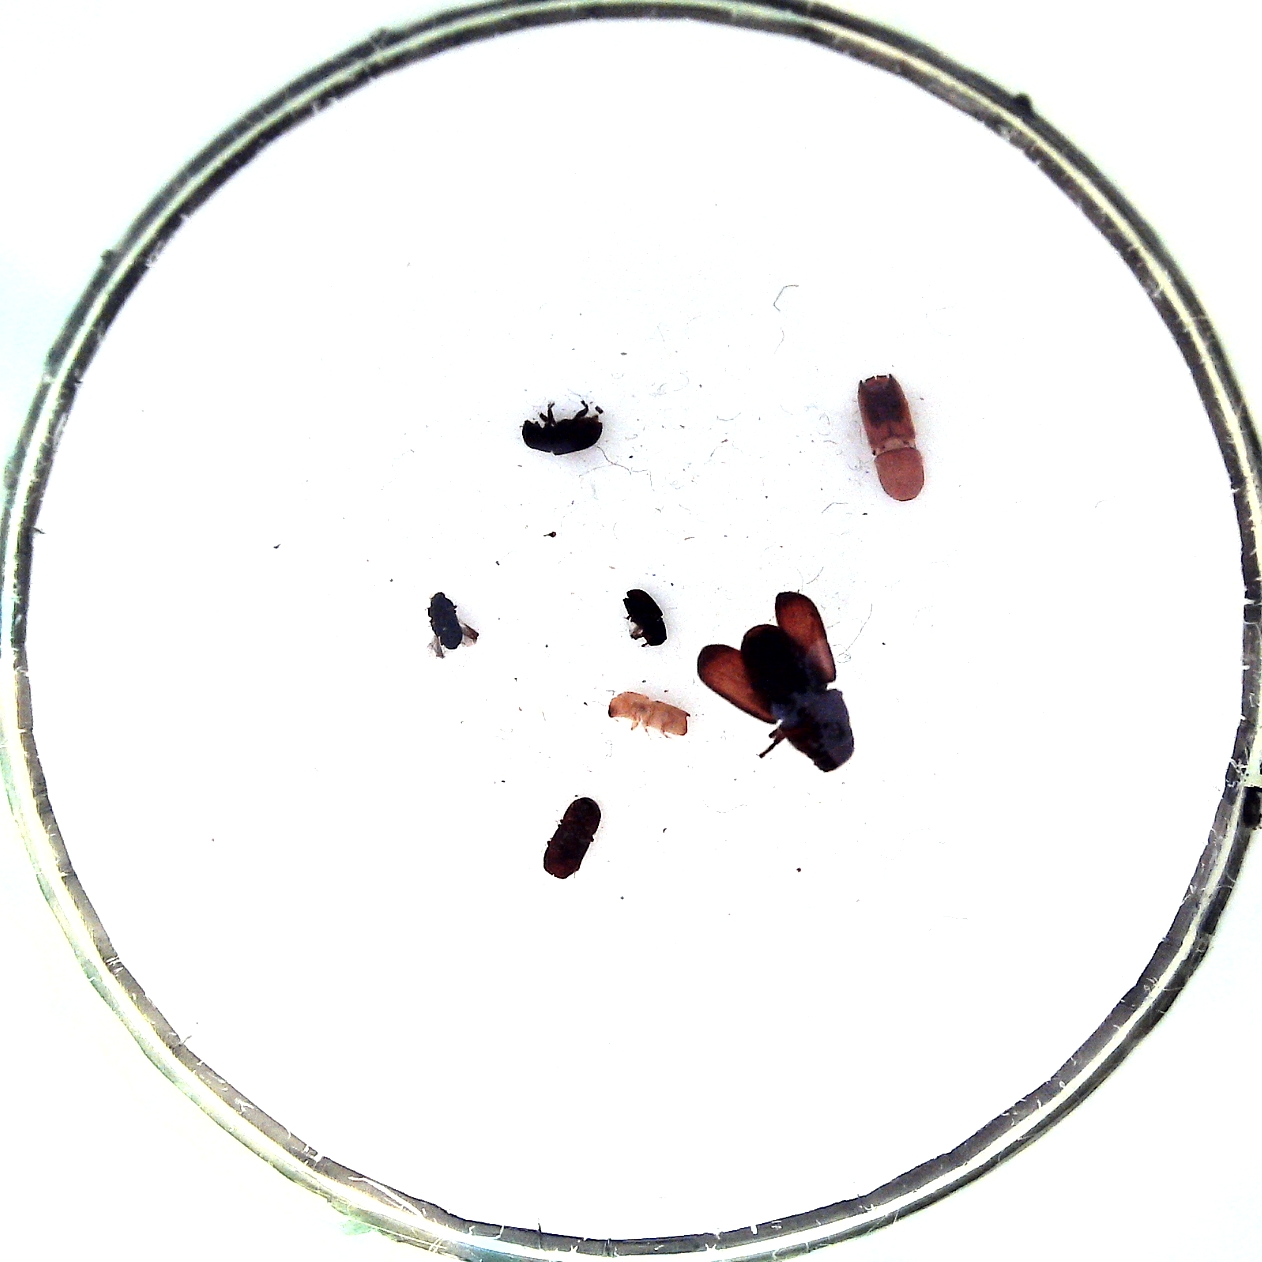Boerner: (859, 372, 925, 502)
Leconte: (743, 624, 855, 773)
acuminatus: (428, 591, 462, 651)
armandi: (524, 414, 603, 456)
coleoptera: (624, 589, 667, 648)
linnaeus: (543, 796, 602, 878), (608, 691, 691, 738)
